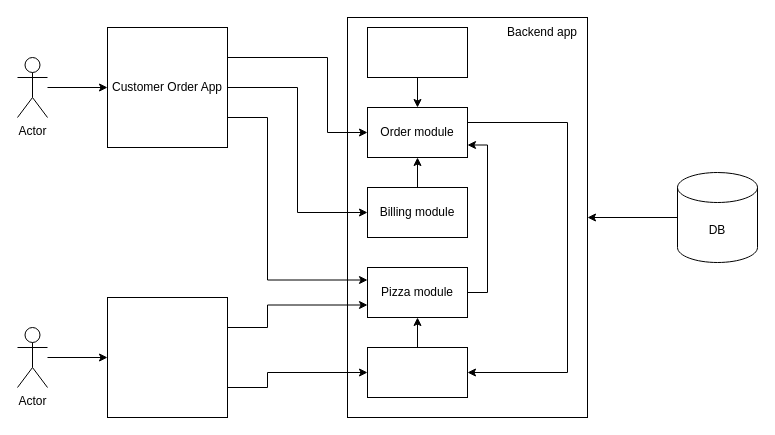
Image size: 775x435. Some labels were removed from this diagram. The centre of each missing label's shape, as x and y in pixels:
"Delivery module" goes at (x=417, y=52).
"Kitchen App" goes at (x=167, y=357).
"Kitchen module" goes at (x=417, y=372).
